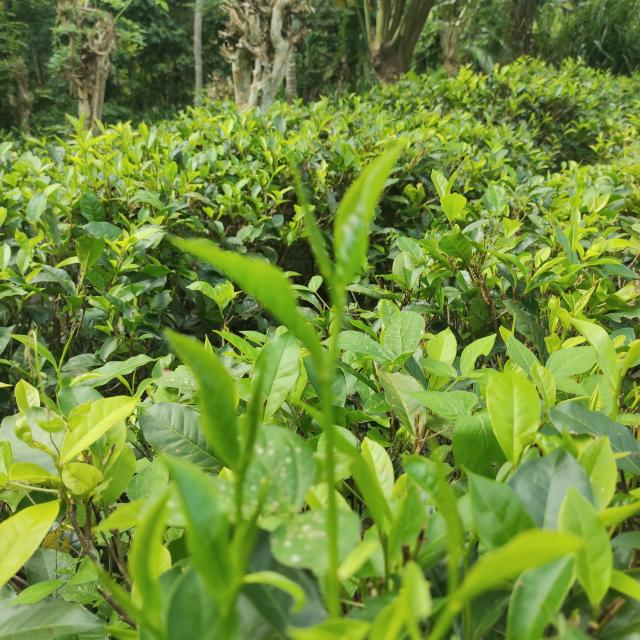unopened_leaf: (281, 156, 346, 304), (233, 345, 272, 478)
